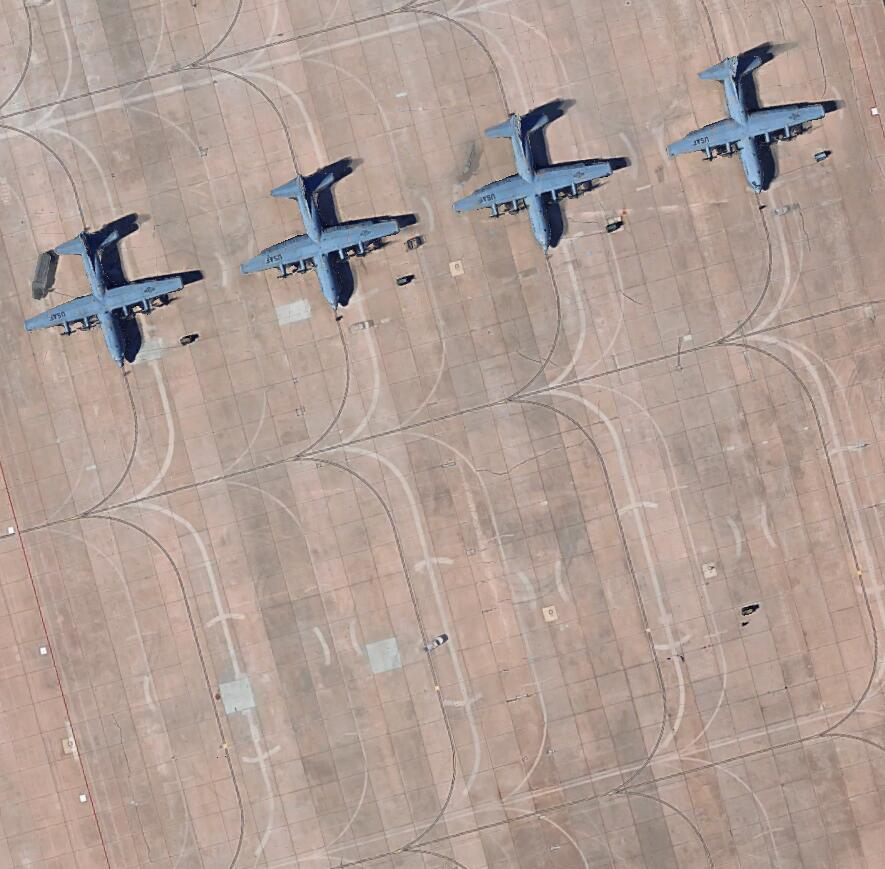A2: (443, 93, 636, 258), (20, 209, 208, 371), (662, 40, 855, 193), (234, 152, 419, 309)
